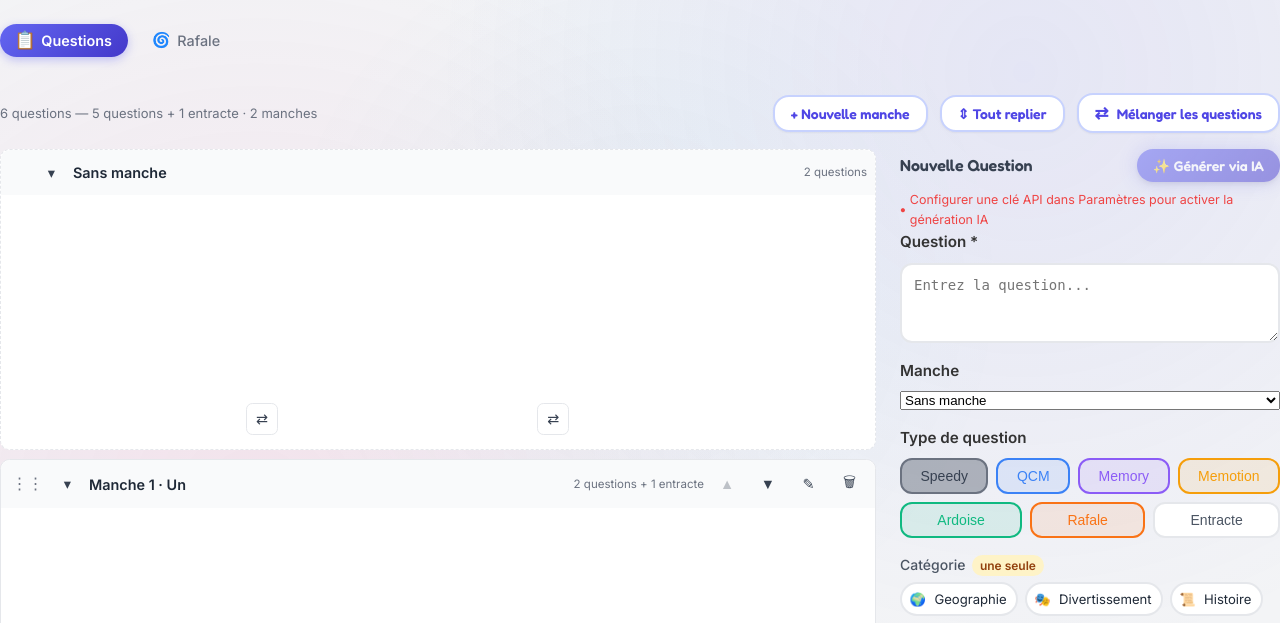
Éditeur en manches — suppression avec choix (#245, scénarios 26, 27, 31) › Annuler ferme la fenêtre et n’envoie rien ; Échap aussi
Click the button named "Supprimer la manche": click(849, 484) [832, 466, 867, 502]
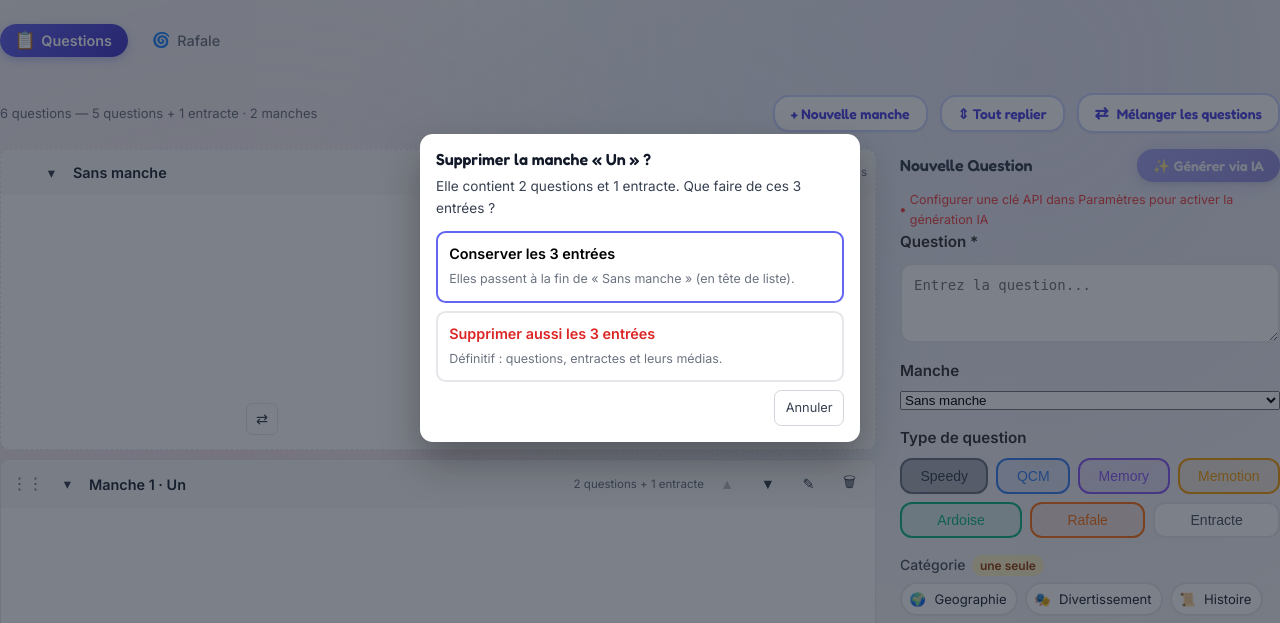
Click the button "Annuler": click(809, 408) [774, 390, 844, 426]
(page scrolled)
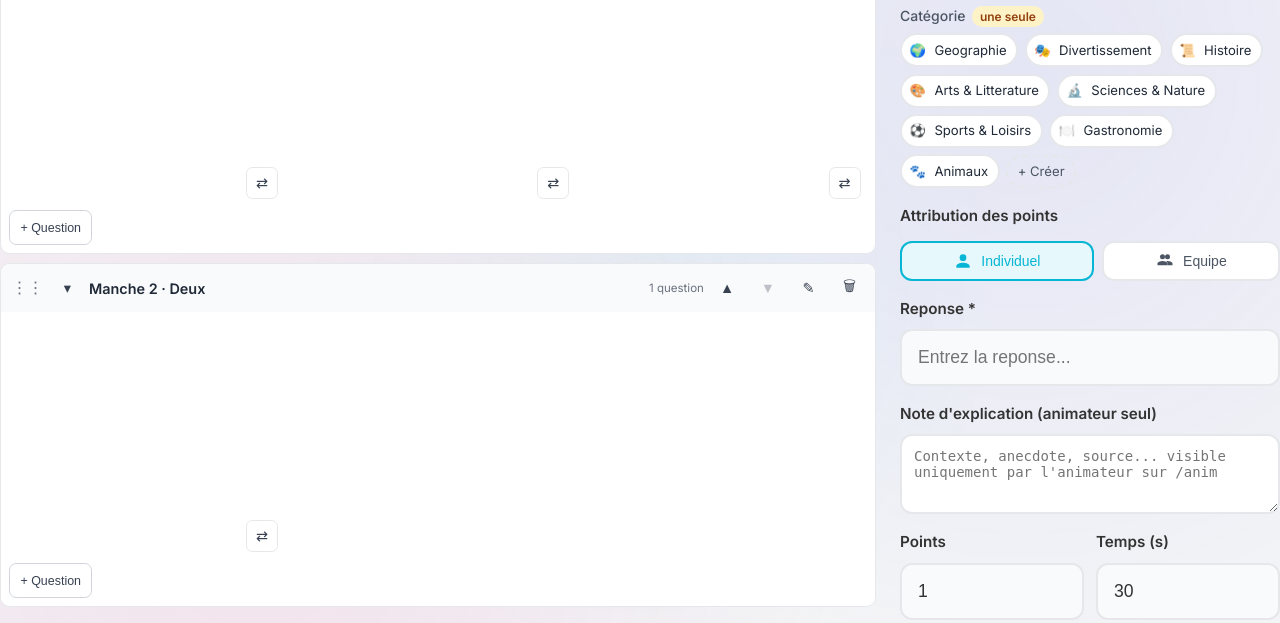
expect the dialog is gone: met
Click the button named "Supprimer la manche": click(849, 288) [832, 270, 867, 306]
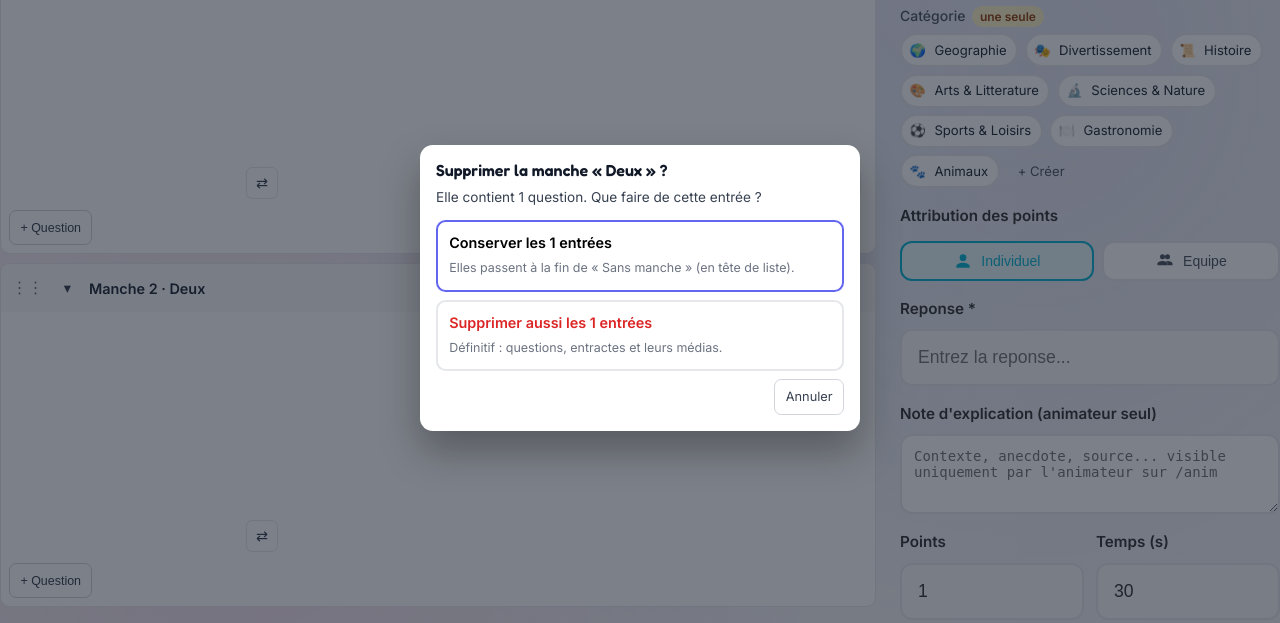
Press Escape in the dialog, box [420, 145, 860, 431]
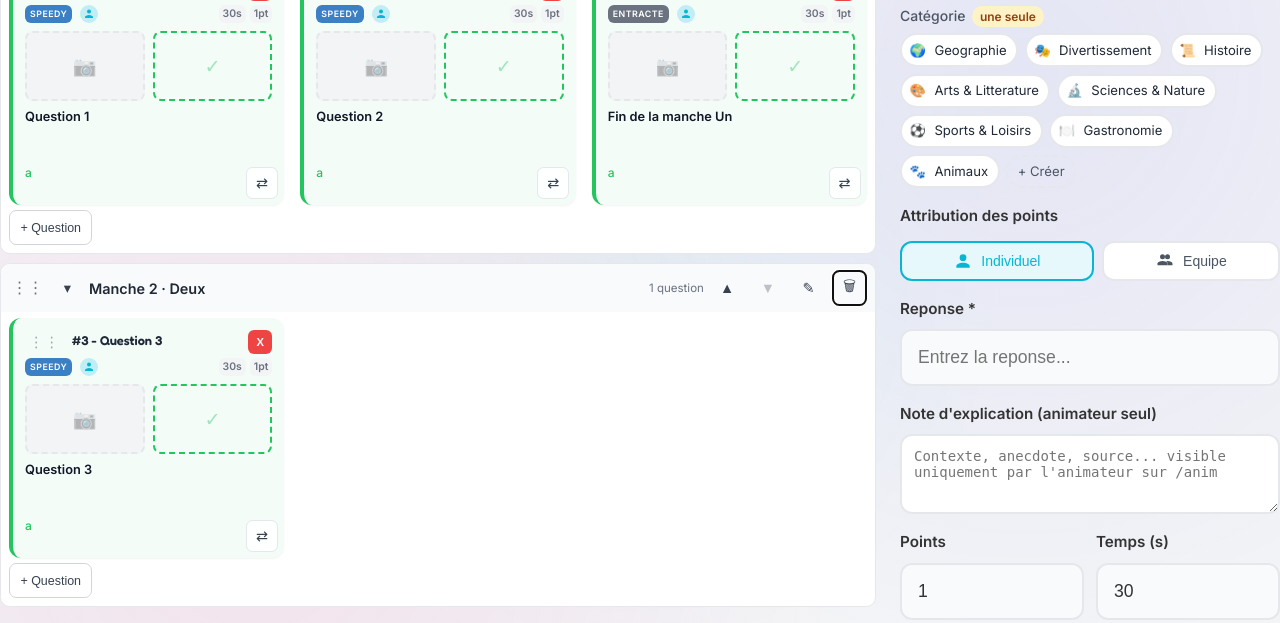
expect the dialog is gone: met
